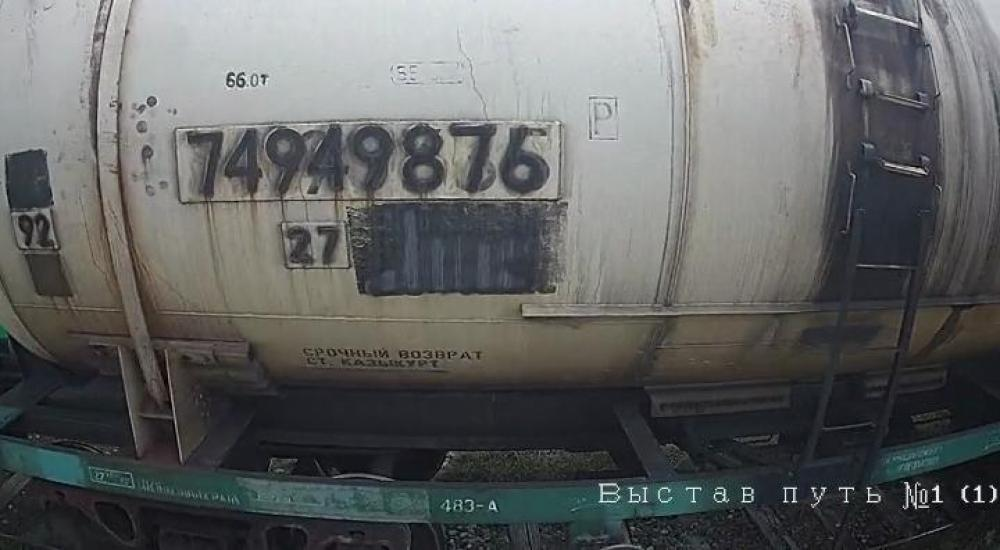Wagon-number: (180, 124, 558, 198)
